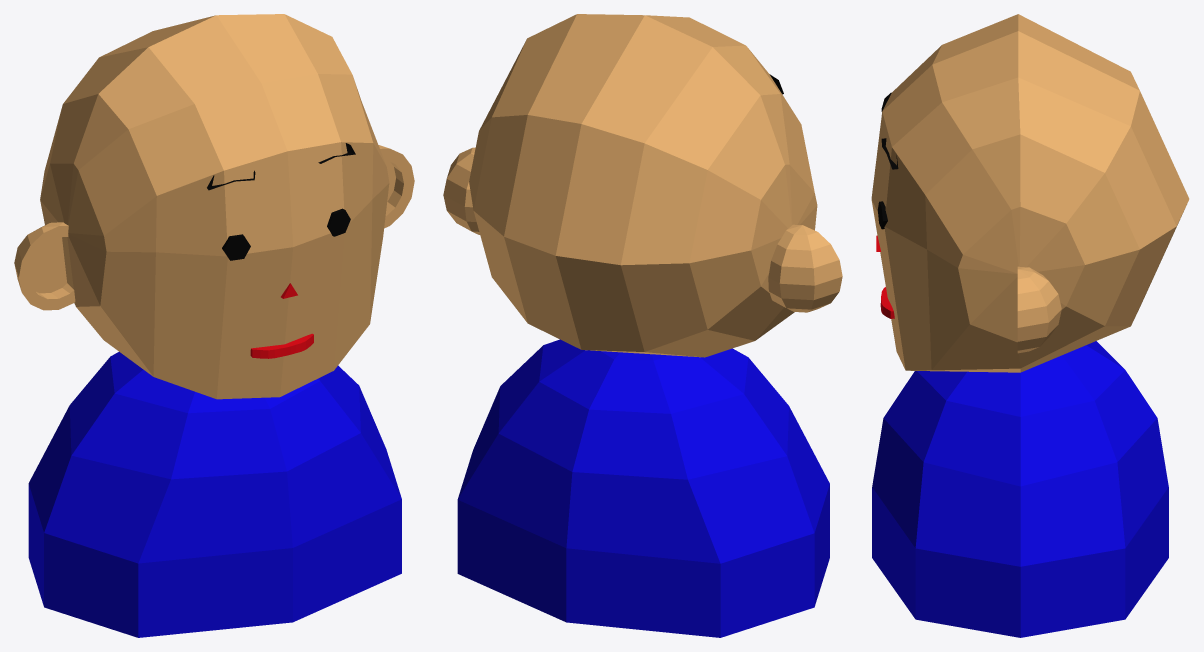
Rendered from human1.glb.
3 renders of one model, left to right at view 1: azimuth 30°, elevation 25°; view 2: azimuth 150°, elevation 25°; view 3: azimuth 270°, elevation 25°, orthographic. The views are drawn at different scales.
Visible parts, largest first — view 1: 球, 球.002, 球.001, face; view 2: 球, 球.002, 球.001; view 3: 球, 球.002, 球.001, face.
Boxes of the visible parts, x1=… form: 球: x1=40, y1=14, x2=389, y2=399; 球.002: x1=28, y1=352, x2=401, y2=637; 球.001: x1=14, y1=145, x2=414, y2=310; face: x1=207, y1=143, x2=355, y2=358; 球: x1=469, y1=14, x2=817, y2=357; 球.002: x1=457, y1=339, x2=829, y2=637; 球.001: x1=443, y1=147, x2=842, y2=312; 球: x1=871, y1=14, x2=1189, y2=372; 球.002: x1=872, y1=341, x2=1168, y2=637; 球.001: x1=1017, y1=266, x2=1061, y2=353; face: x1=876, y1=92, x2=898, y2=318.
Bounding box in the file's own units: 0.605 × 0.8052 × 0.4403.
